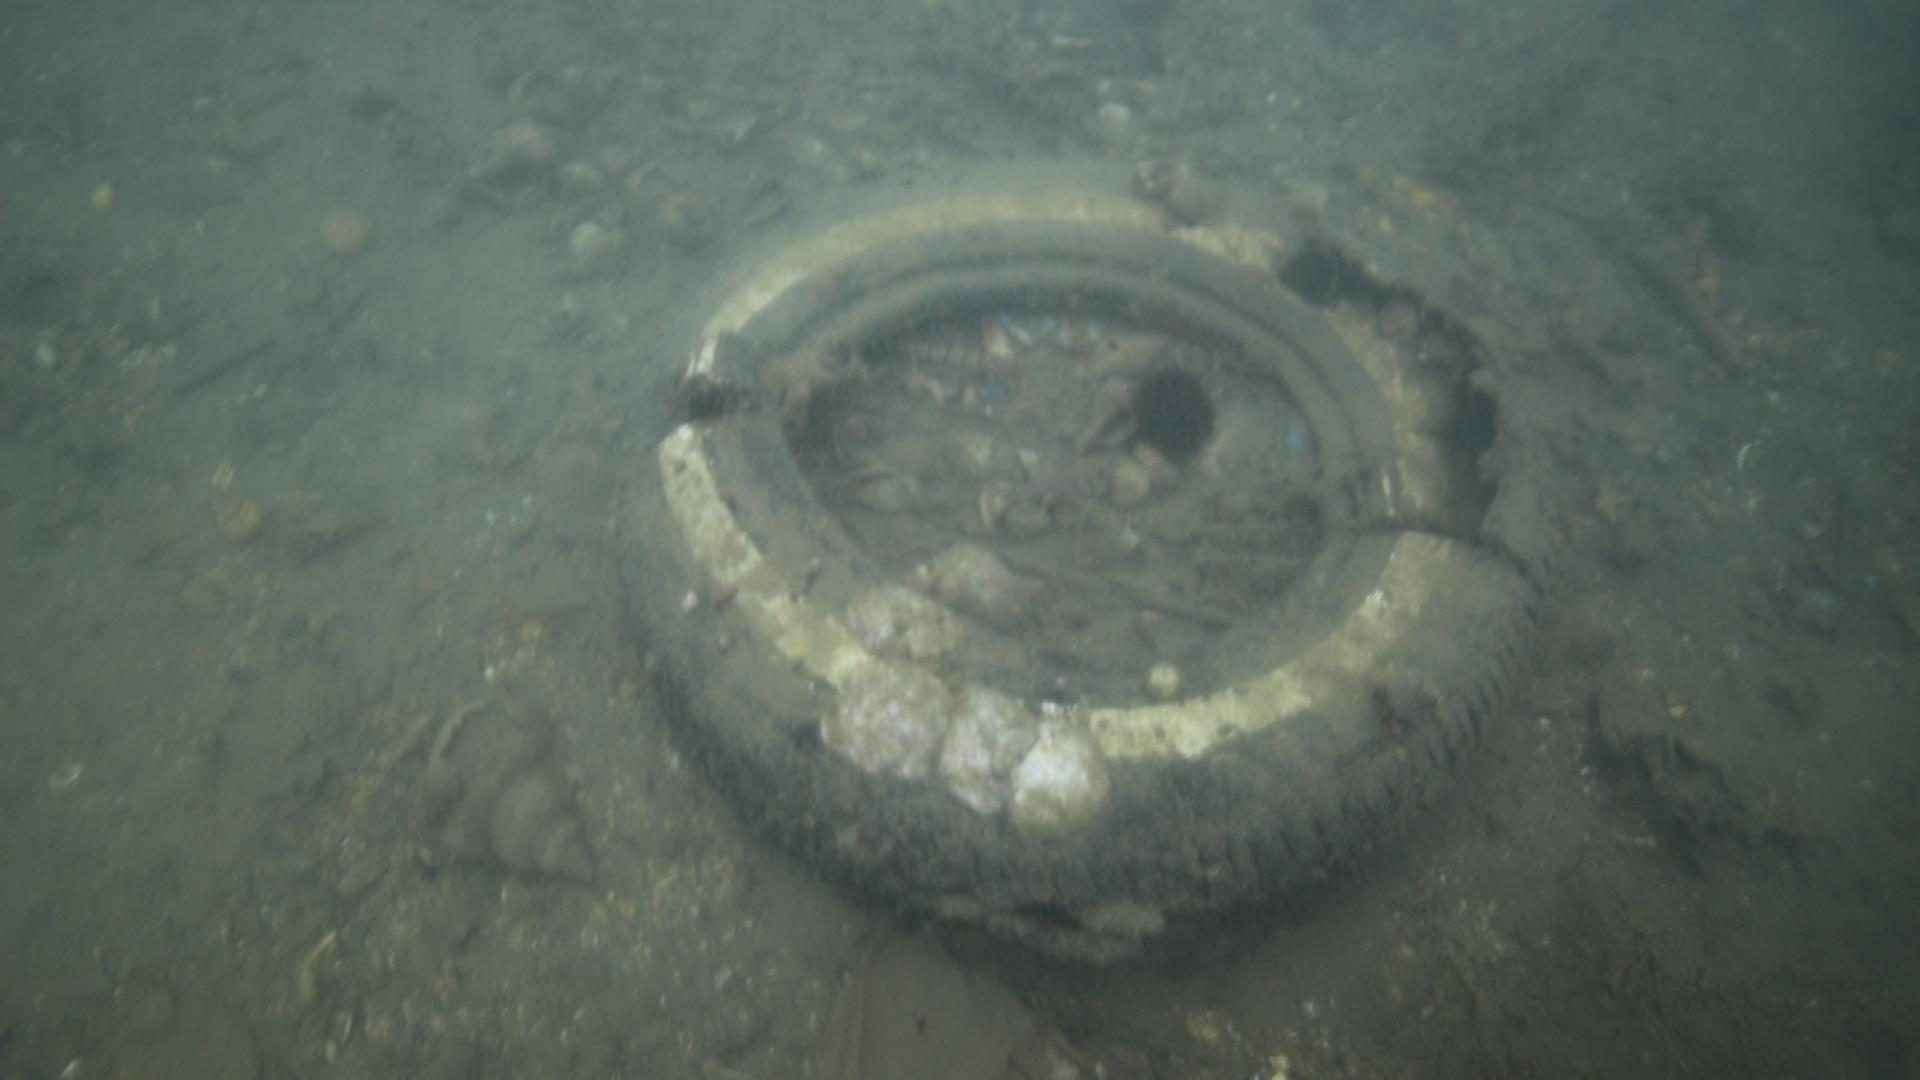tire: (612, 160, 1551, 986)
